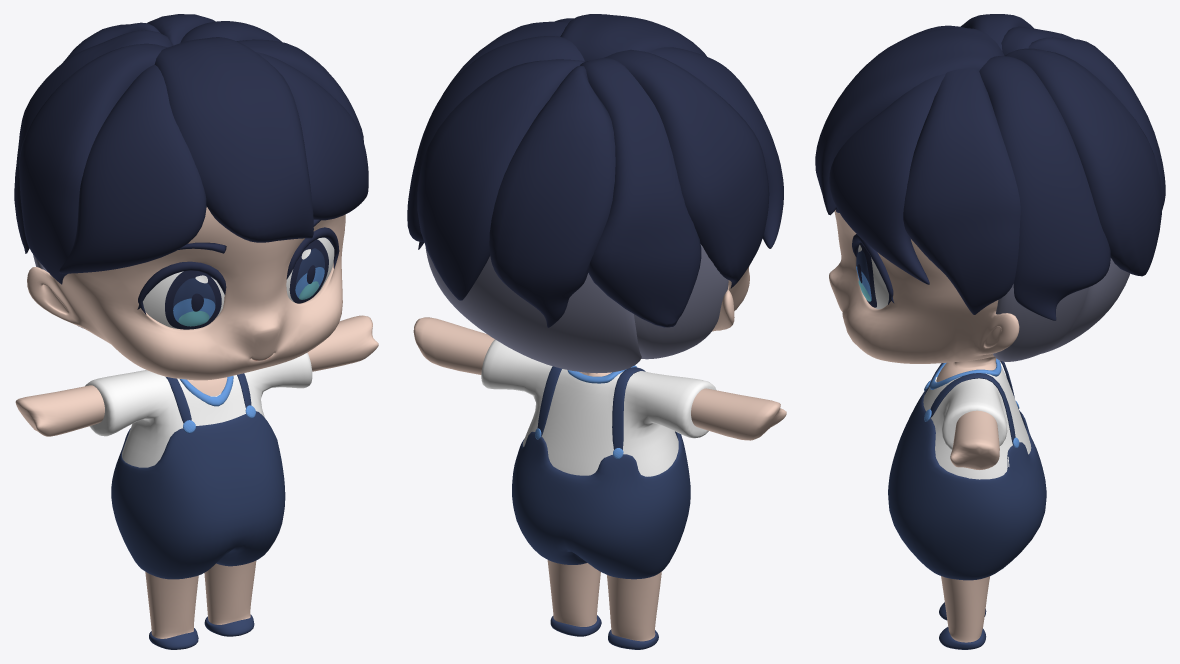
File: BoyTPost.fbx
3 views of the same model, side by side, from view 1: azimuth 30°, elevation 25°; view 2: azimuth 150°, elevation 25°; view 3: azimuth 270°, elevation 25° (orthographic). The views are drawn at different scales.
Visible parts, largest first — view 1: head.001; view 2: head.001; view 3: head.001.
Boxes of the visible parts, bbox=[...] form: head.001: bbox=[14, 14, 378, 649]; head.001: bbox=[407, 14, 786, 649]; head.001: bbox=[815, 14, 1165, 649].
Size of the model in its own units: 123 by 198 by 107.
